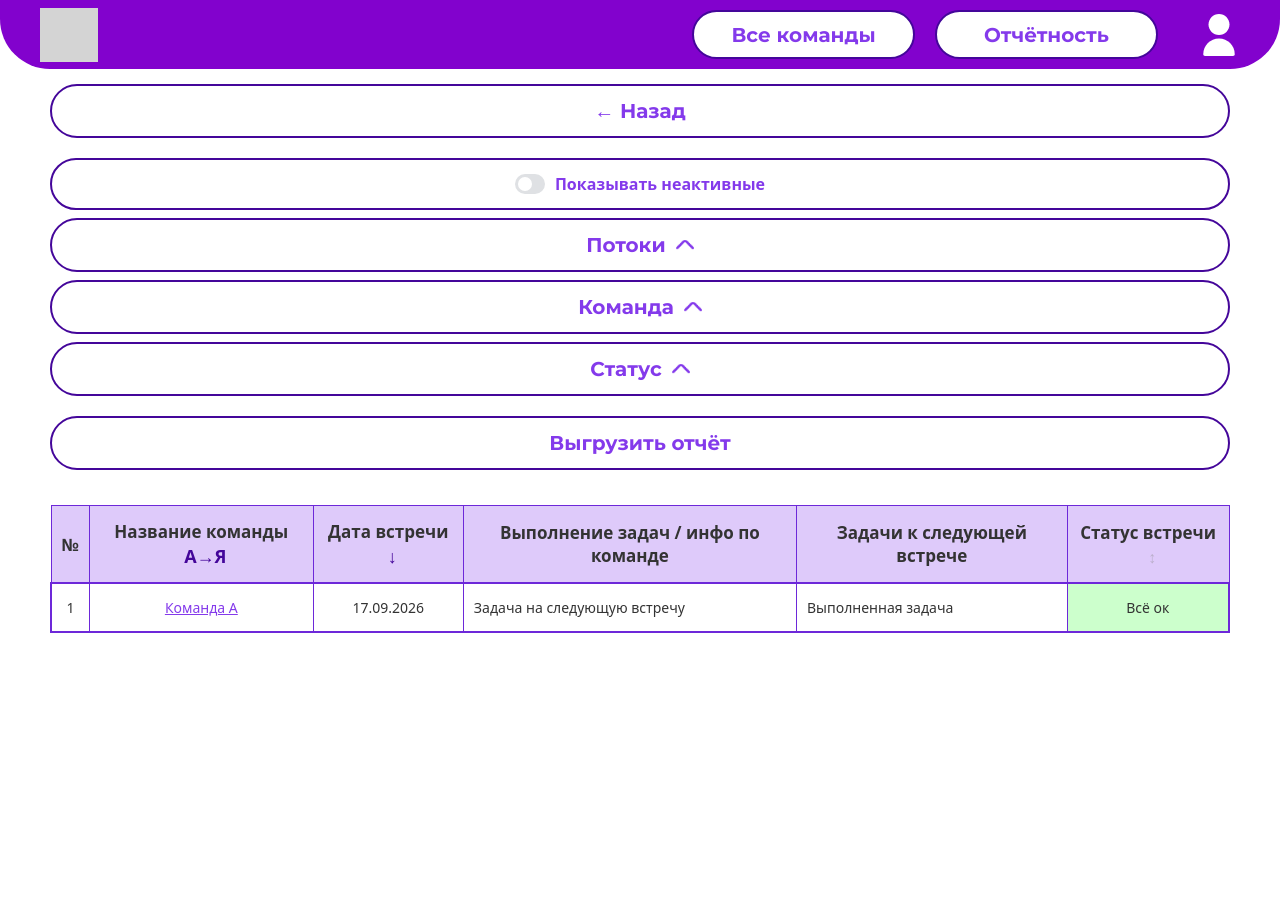
it: TrackerMeetingReportPage › shows an error when Excel export fails
This screenshot has width=1280, height=900.
Check: the text "Команда А" is shown, box left=90, top=583, right=313, bottom=632
Step 1. Click the button "Выгрузить отчёт" → x=640, y=443, box left=50, top=416, right=1230, bottom=470
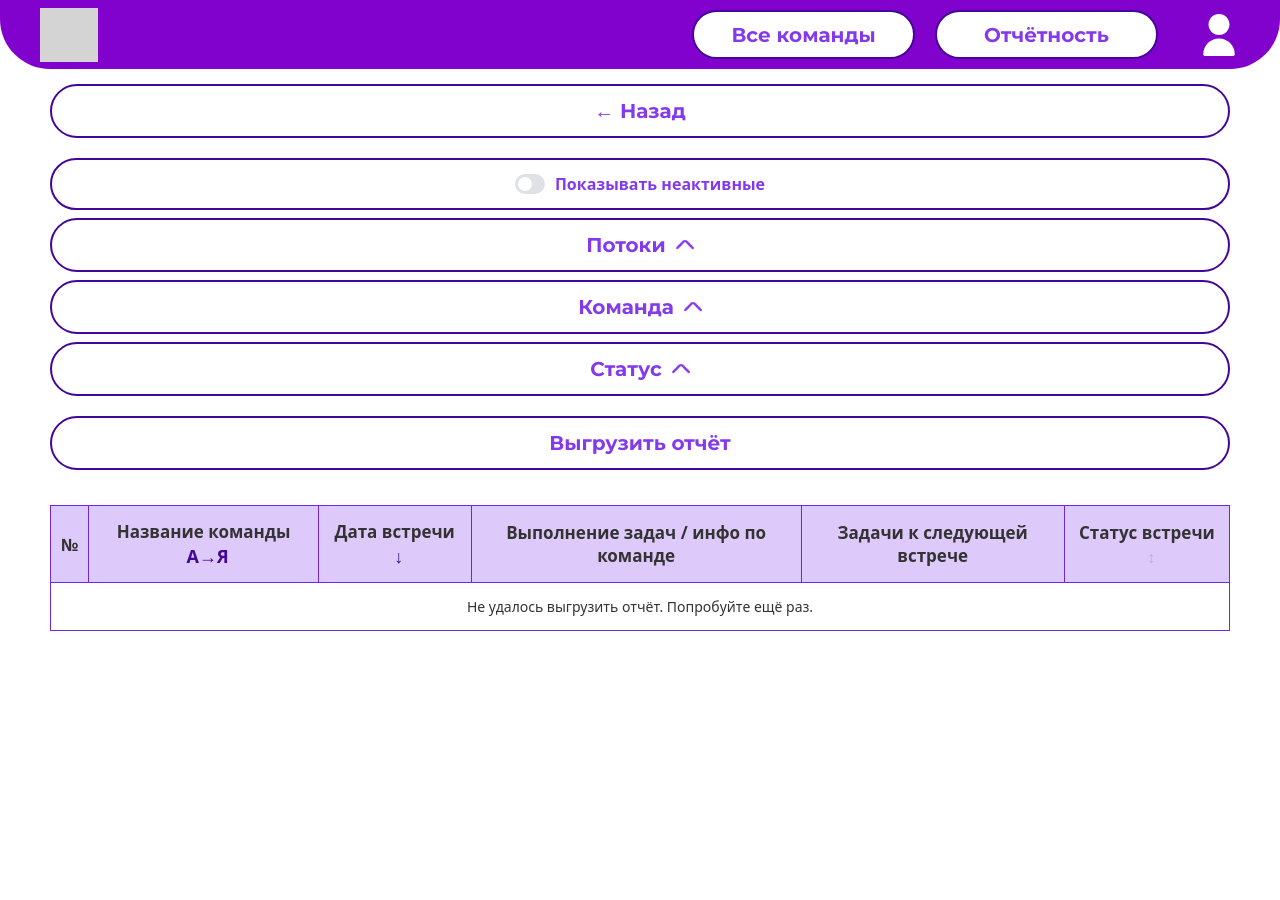
Check: the text "Не удалось выгрузить отчёт. Попробуйте ещё раз." is shown, box left=50, top=583, right=1230, bottom=631
